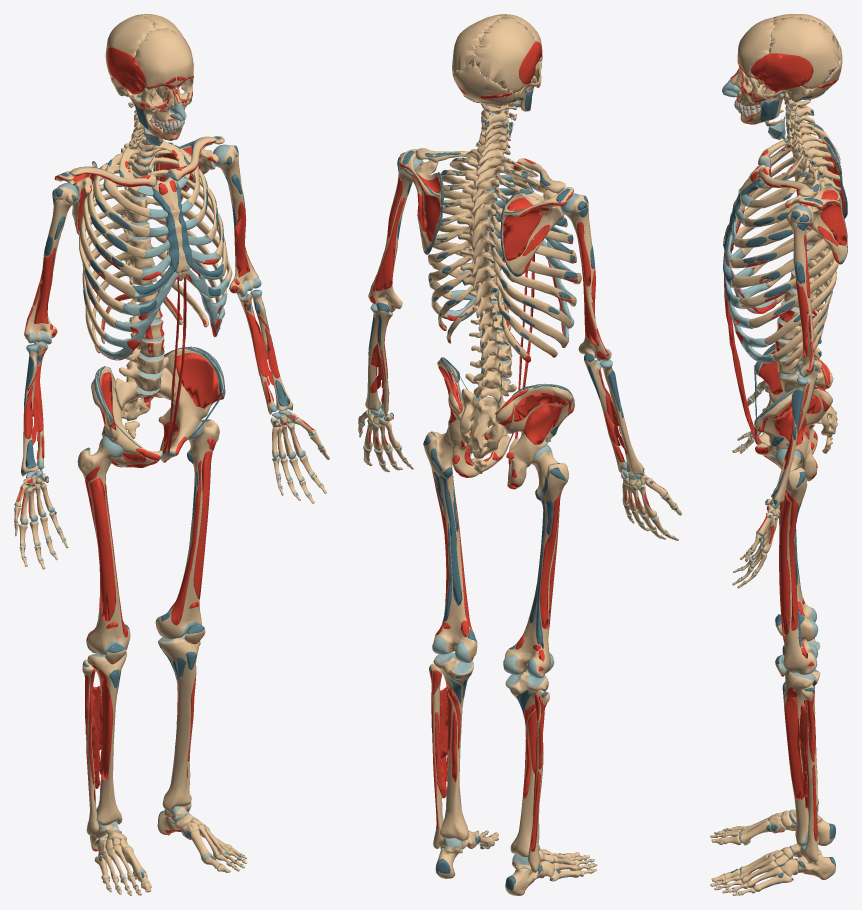
Rendered from muscular_insertions.glb.
3 renders of one model, left to right at view 1: azimuth 30°, elevation 25°; view 2: azimuth 150°, elevation 25°; view 3: azimuth 270°, elevation 25°, orthographic. The views are drawn at different scales.
Visible parts, largest first — view 1: Object_3, Object_71, Object_36, Object_93, Object_29, Object_45, Object_57, Object_43; view 2: Object_3, Object_71, Object_29, Object_45, Object_36, Object_93, Object_57; view 3: Object_3, Object_71, Object_36, Object_29, Object_93, Object_57, Object_45, Object_43.
Boxes of the visible parts, bbox=[...] form: Object_3: bbox=[14, 14, 329, 895]; Object_71: bbox=[17, 90, 313, 877]; Object_36: bbox=[14, 95, 323, 891]; Object_93: bbox=[24, 31, 279, 461]; Object_29: bbox=[114, 97, 175, 438]; Object_45: bbox=[14, 136, 322, 892]; Object_57: bbox=[24, 86, 269, 394]; Object_43: bbox=[115, 96, 163, 407]; Object_3: bbox=[358, 14, 681, 895]; Object_71: bbox=[365, 151, 665, 893]; Object_29: bbox=[457, 102, 516, 473]; Object_45: bbox=[358, 150, 676, 890]; Object_36: bbox=[360, 89, 676, 877]; Object_93: bbox=[370, 41, 630, 462]; Object_57: bbox=[368, 86, 620, 411]; Object_3: bbox=[710, 14, 847, 895]; Object_71: bbox=[724, 123, 846, 885]; Object_36: bbox=[715, 79, 821, 894]; Object_29: bbox=[775, 99, 840, 453]; Object_93: bbox=[723, 53, 838, 472]; Object_57: bbox=[723, 88, 836, 432]; Object_45: bbox=[715, 123, 847, 893]; Object_43: bbox=[778, 105, 825, 422].
Size of the model in its own units: 0.6692 by 1.7 by 0.2505.
